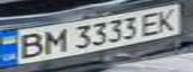3: (69, 21, 93, 51), (90, 19, 112, 46), (106, 17, 127, 44), (121, 14, 142, 40)
B: (9, 29, 48, 60)
E: (136, 10, 166, 36)
K: (151, 7, 181, 33)
M: (36, 26, 69, 55)
